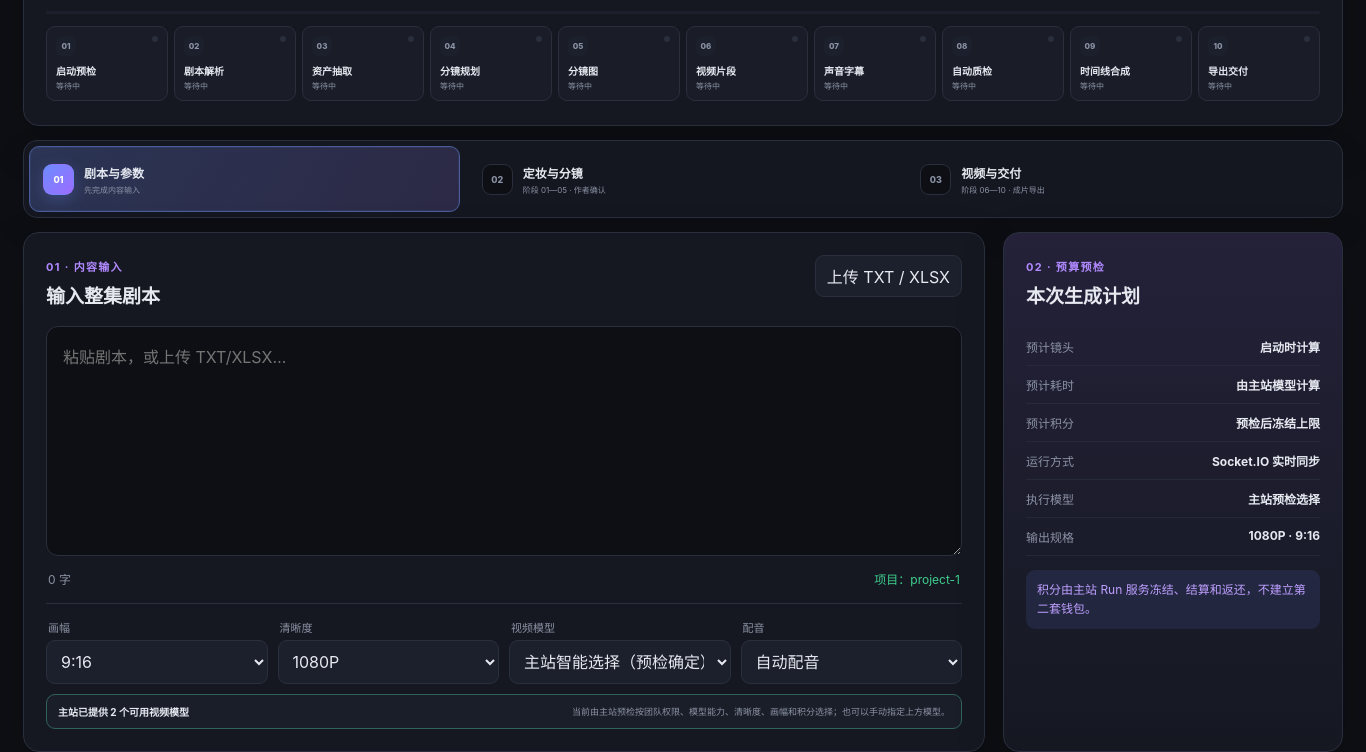
VideoStudio › Seedance 标准档开放接口声明的四档清晰度和六种明确画幅
(page scrolled)
Select "Seedance 2.0 标准 · 480P/720P/1080P/4K" in the dropdown labelled "视频模型" at (620, 662), box [509,640,730,684]
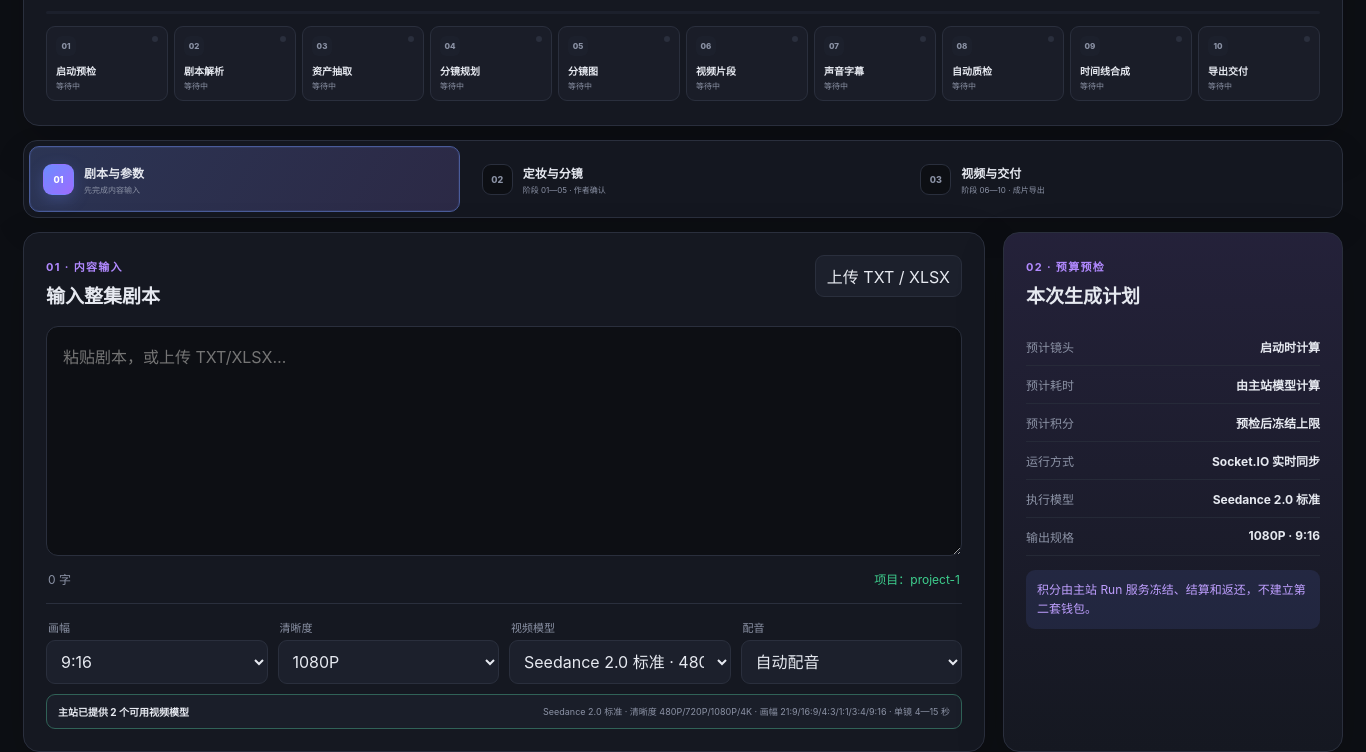
Check: the text "单镜 4—15 秒" is shown, box [543,706,950,717]
